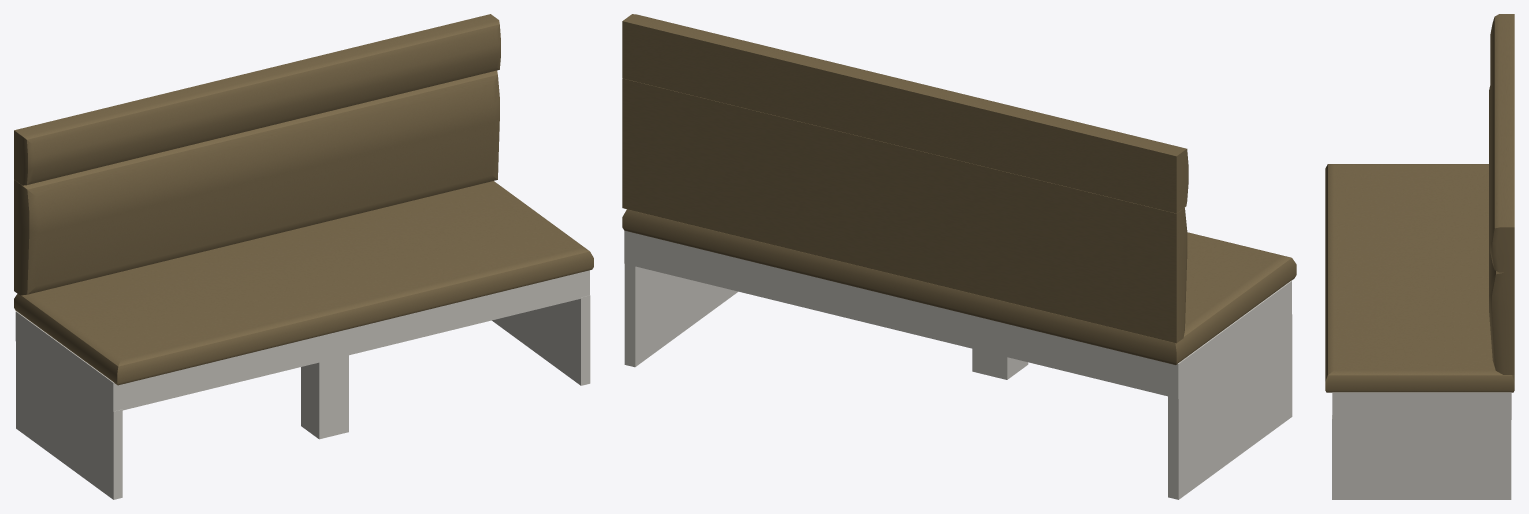
The model's file is LC_3176_bench_c_LOD3.fbx.
The picture shows the model from 3 angles, left to right: view 1: azimuth 30°, elevation 25°; view 2: azimuth 150°, elevation 25°; view 3: azimuth 270°, elevation 25°; orthographic projection. The views are drawn at different scales.
Parts seen in each view (by area): view 1: LC_3176_bc_LOD3; view 2: LC_3176_bc_LOD3; view 3: LC_3176_bc_LOD3.
Boxes of the visible parts, left/top/right/bottom form: LC_3176_bc_LOD3: left=14, top=14, right=593, bottom=499; LC_3176_bc_LOD3: left=622, top=14, right=1296, bottom=499; LC_3176_bc_LOD3: left=1325, top=14, right=1514, bottom=499.
Bounding box in the file's own units: 160 × 95.23 × 60.
Materials: 1 (1 with a texture image).
